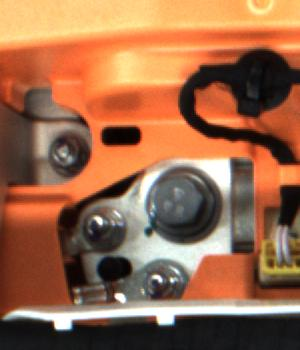nut_b: (147, 168, 221, 242)
screw_s: (47, 133, 89, 179), (81, 211, 125, 250), (140, 268, 178, 305)
